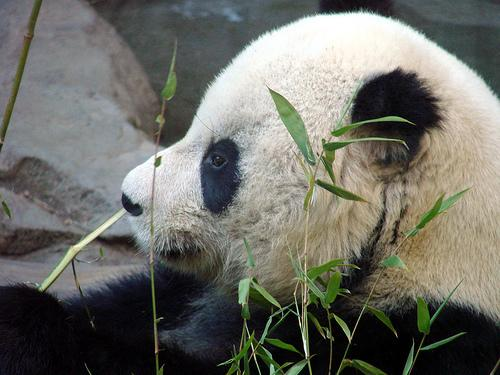panda: (0, 12, 499, 374)
